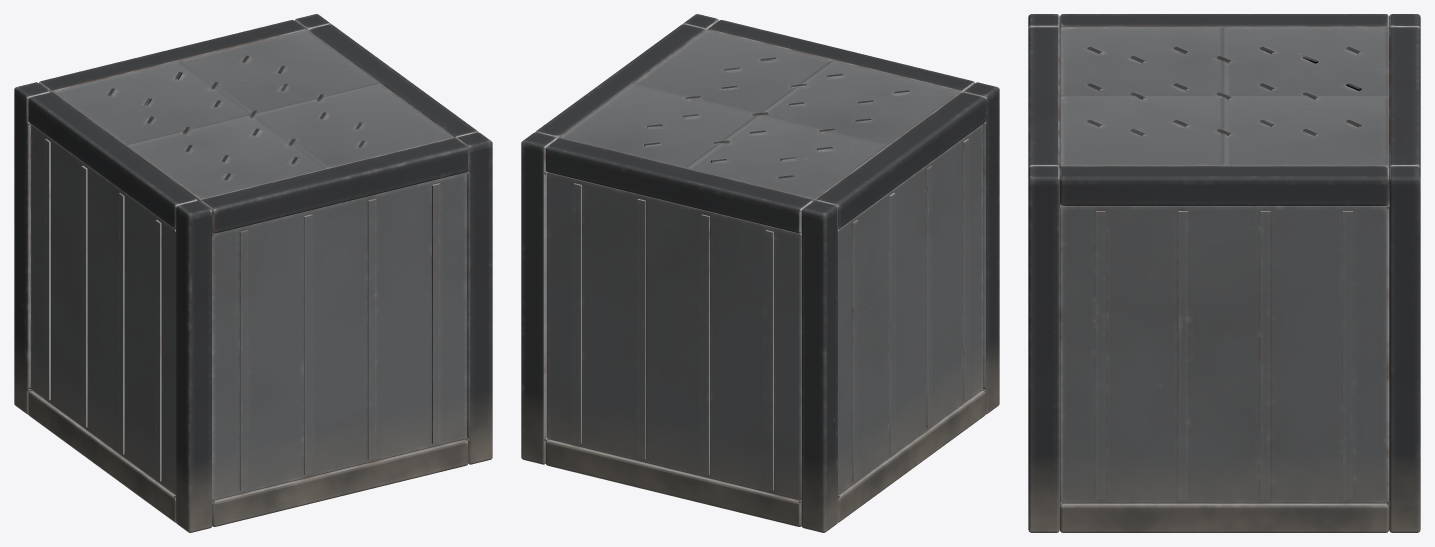
File: SM_Foundation2m.glb
3 views of the same model, side by side, from view 1: azimuth 30°, elevation 25°; view 2: azimuth 150°, elevation 25°; view 3: azimuth 270°, elevation 25° (orthographic). The views are drawn at different scales.
Visible parts, largest first — view 1: SM_Foundation2m; view 2: SM_Foundation2m; view 3: SM_Foundation2m.
Boxes of the visible parts, x1=… form: SM_Foundation2m: x1=14, y1=14, x2=492, y2=532; SM_Foundation2m: x1=521, y1=14, x2=999, y2=532; SM_Foundation2m: x1=1028, y1=14, x2=1420, y2=532.
Bounding box in the file's own units: 2 × 2 × 2.
Materials: 3 (3 with a texture image).
